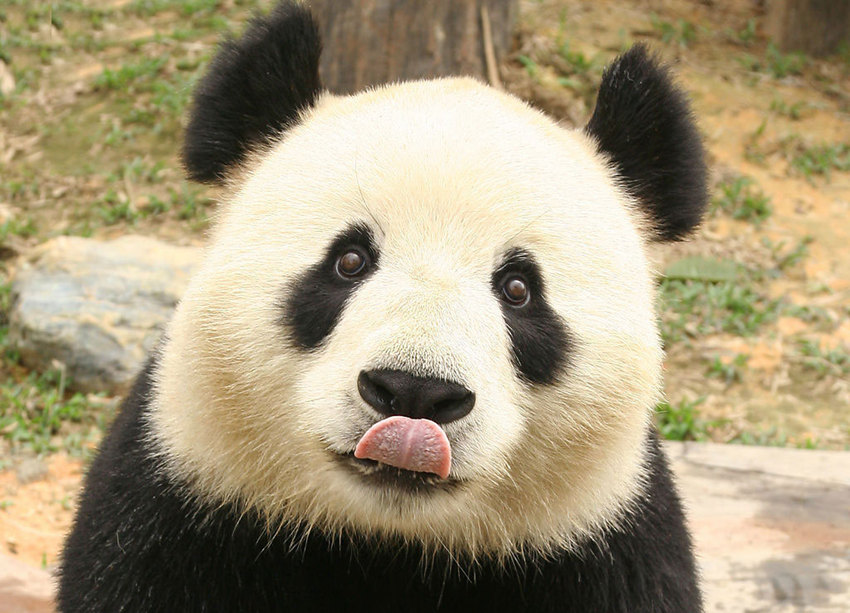panda: (126, 10, 715, 613)
